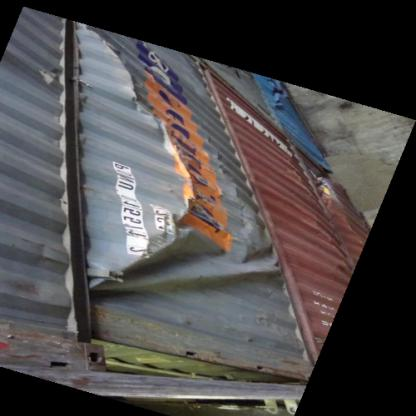Damage: (108, 38, 202, 281), (180, 221, 298, 290), (88, 220, 194, 294)
